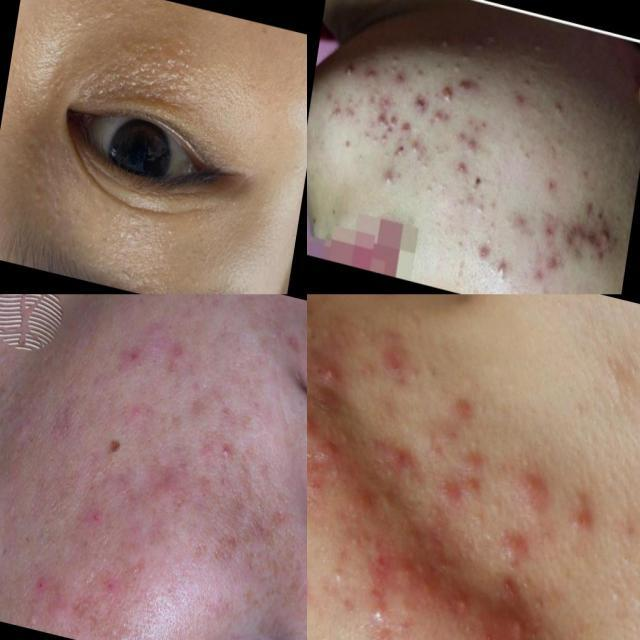Pimples: (81, 26, 217, 114), (99, 210, 200, 294), (468, 572, 544, 640), (504, 449, 560, 524), (25, 560, 77, 632), (22, 167, 68, 245), (13, 120, 57, 191), (160, 329, 196, 381), (450, 579, 488, 627), (316, 351, 349, 401), (416, 574, 450, 620), (362, 588, 398, 630), (564, 218, 608, 252), (388, 550, 420, 592), (323, 554, 356, 593), (116, 339, 152, 372), (490, 250, 514, 286), (374, 164, 400, 192), (452, 73, 478, 101), (539, 220, 563, 250), (461, 134, 489, 156), (410, 90, 430, 120), (307, 402, 319, 451), (541, 252, 563, 278), (450, 158, 474, 180), (437, 83, 459, 106), (373, 104, 393, 127), (362, 64, 382, 86), (508, 90, 528, 111), (340, 60, 358, 82), (340, 104, 358, 126), (392, 66, 408, 90), (409, 63, 427, 84), (429, 108, 447, 128), (401, 111, 412, 136)
